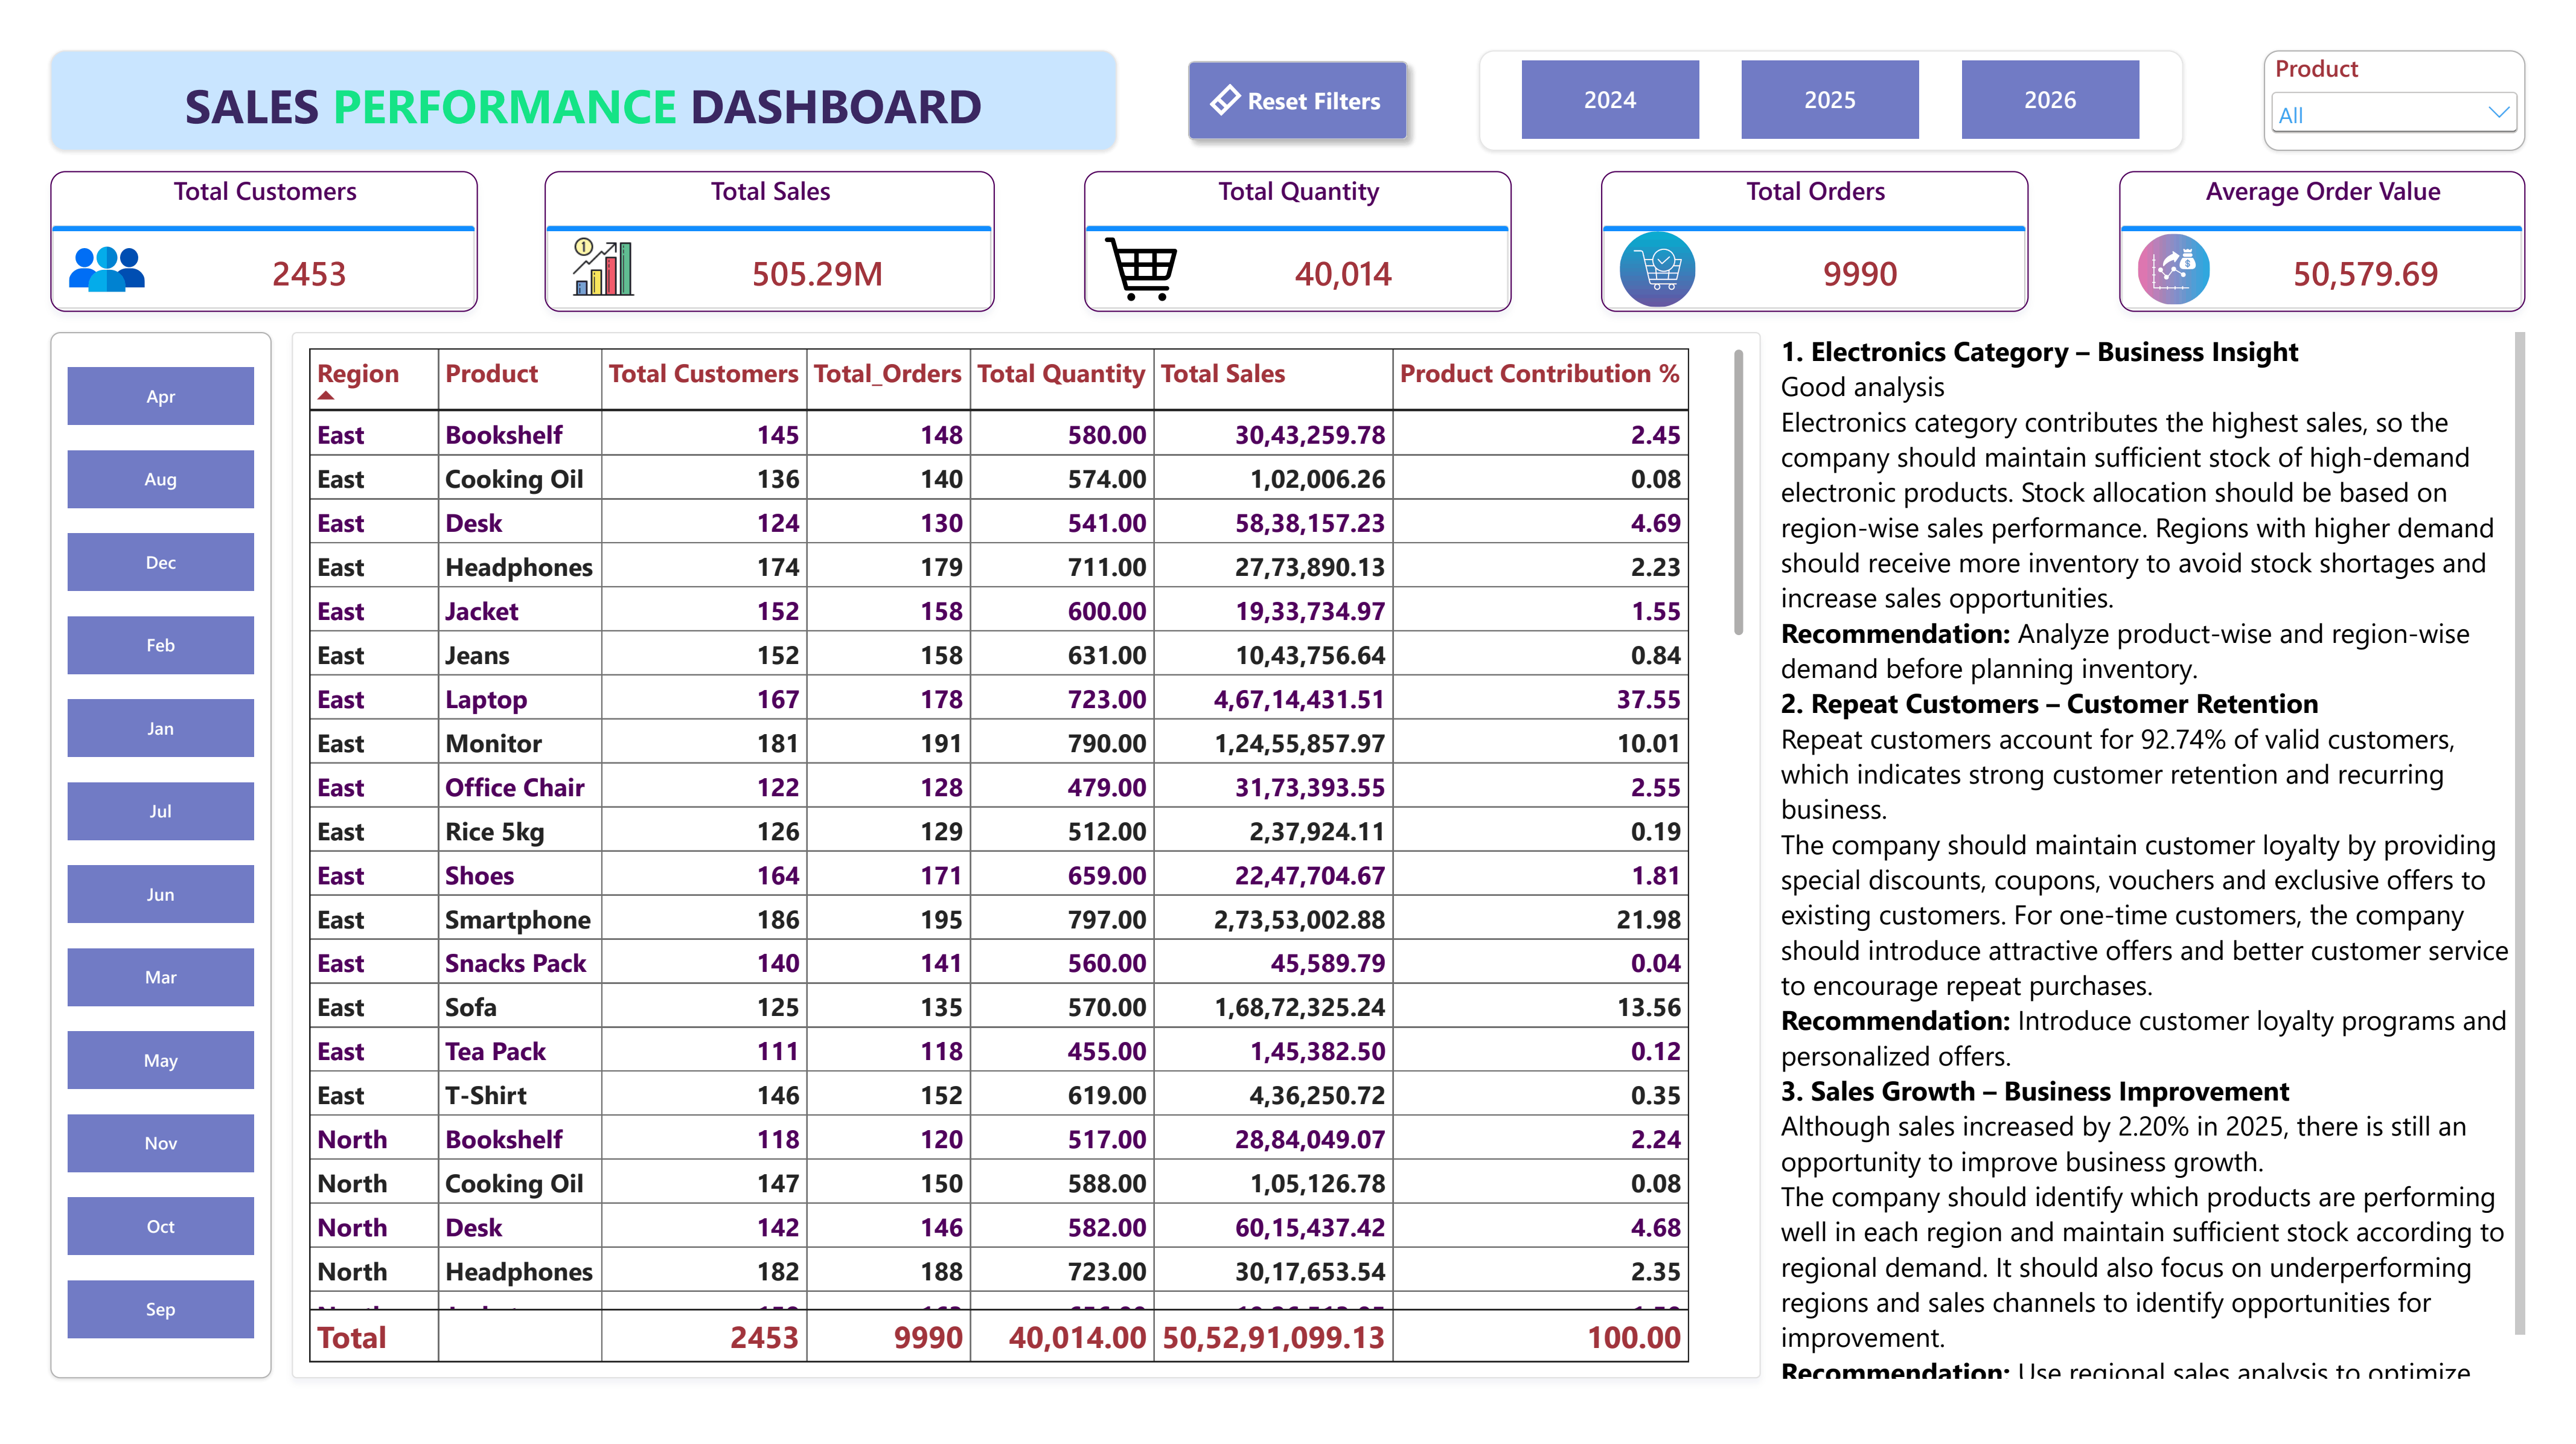

This screenshot's page, from the dashboard's own definition file:
{"tool":"powerbi","page":{"name":"Overview  3","canvas":[2000,1100],"ordinal":2},"visuals":[{"type":"textbox","box":[16,16,848,80],"z":0,"group":"g3"},{"type":"cardVisual","title":"Total Customers","fields":{"Data":["Measures_Table.Total Customers"]},"box":[16,112,339.6,112],"z":0,"group":"g2"},{"type":"tableEx","fields":{"Values":["Final_Sales_Data.Region","Final_Sales_Data.Product","Measures_Table.Total Customers","Measures_Table.Total_Orders","Measures_Table.Total Quantity","Measures_Table.Total Sales","Measures_Table.Product Contribution %"]},"box":[208,240,1168,832],"z":0},{"type":"advancedSlicerVisual","title":"Months","fields":{"Values":["Date_Table.Short Month"]},"box":[16,240,176,832],"z":1},{"type":"group","id":"g1","title":"Group 3","box":[16,16,1968,80],"z":4},{"type":"group","id":"g2","title":"Group 1","box":[16,112,1968,112],"z":5},{"type":"textbox","box":[1392,240,592,832],"z":6},{"type":"advancedSlicerVisual","fields":{"Values":["Date_Table.Year"]},"box":[1152,16,560,80],"z":1000,"group":"g3"},{"type":"cardVisual","title":"Average Order Value","fields":{"Data":["Measures_Table.Average Order Value"]},"box":[1661.4,112,322.6,112],"z":1000,"group":"g2"},{"type":"slicer","fields":{"Values":["Final_Sales_Data.Product"]},"box":[1776,16,208,80],"z":2000,"group":"g3"},{"type":"cardVisual","title":"Total Sales","fields":{"Data":["Measures_Table.Total Sales"]},"box":[409.3,112,357.5,112],"z":2000,"group":"g2"},{"type":"cardVisual","title":"Total Orders","fields":{"Data":["Measures_Table.Total_Orders"]},"box":[1249.4,112,339.6,112],"z":3000,"group":"g2"},{"type":"cardVisual","title":"Total Quantity","fields":{"Data":["Measures_Table.Total Quantity"]},"box":[838.3,112,339.6,112],"z":4000,"group":"g2"},{"type":"group","id":"g3","title":"Group 2","box":[16,16,1968,80],"z":7000,"group":"g1"},{"type":"actionButton","box":[912,16,192,80],"z":9001,"group":"g1"}]}

Visuals, with their boxes on the page's 2000x1100 design canvas (x1, y1, x2, y2). These are canvas units, not pixel positions in the 2576x1444 screenshot, which may show the page scaled, cropped or inside an application window:
textbox: box=[16, 16, 864, 96]
"Total Customers" cardVisual: box=[16, 112, 356, 224]
tableEx - Final_Sales_Data.Region x Final_Sales_Data.Product: box=[208, 240, 1376, 1072]
"Months" advancedSlicerVisual: box=[16, 240, 192, 1072]
"Group 3" group: box=[16, 16, 1984, 96]
"Group 1" group: box=[16, 112, 1984, 224]
textbox: box=[1392, 240, 1984, 1072]
advancedSlicerVisual - Date_Table.Year: box=[1152, 16, 1712, 96]
"Average Order Value" cardVisual: box=[1661, 112, 1984, 224]
slicer - Final_Sales_Data.Product: box=[1776, 16, 1984, 96]
"Total Sales" cardVisual: box=[409, 112, 767, 224]
"Total Orders" cardVisual: box=[1249, 112, 1589, 224]
"Total Quantity" cardVisual: box=[838, 112, 1178, 224]
"Group 2" group: box=[16, 16, 1984, 96]
actionButton: box=[912, 16, 1104, 96]
